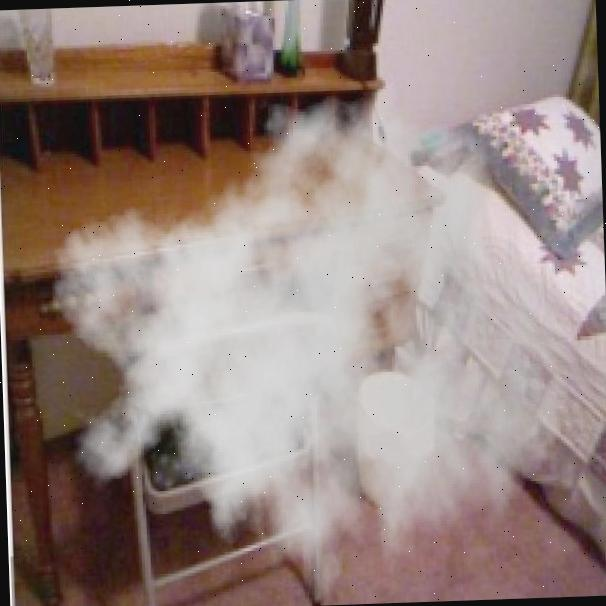smoke: (42, 60, 577, 606)
